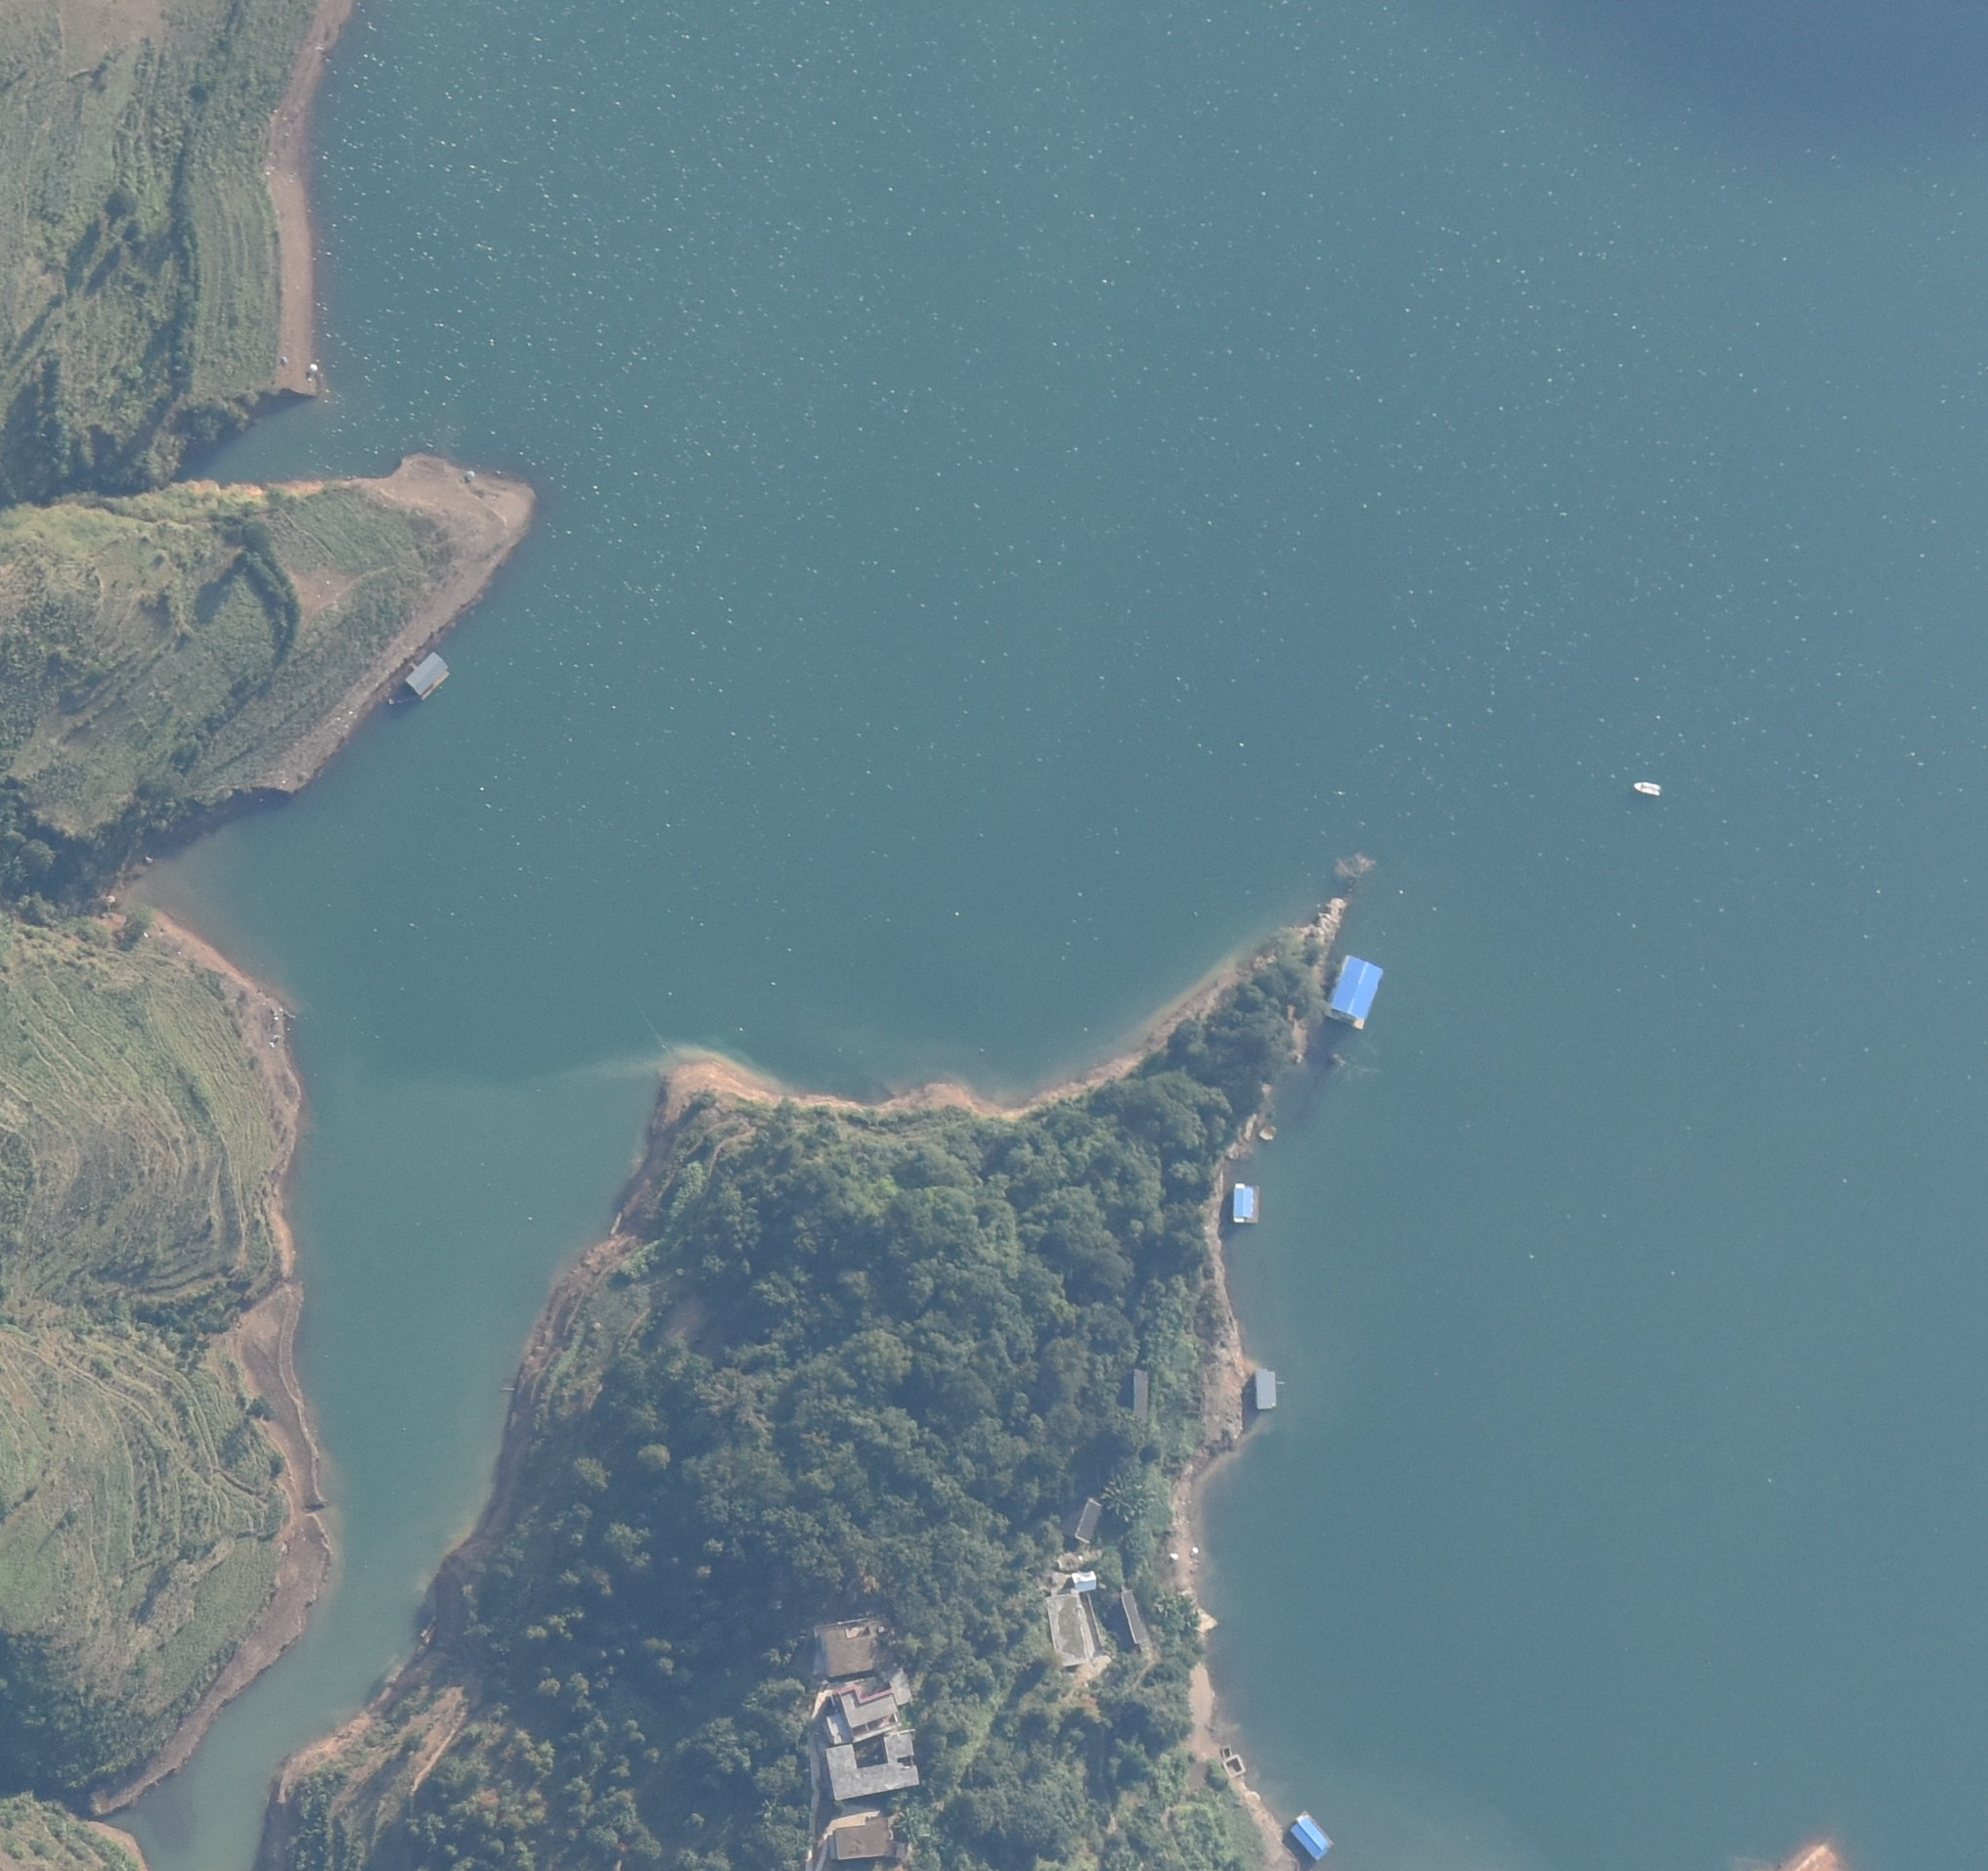building: (822, 1734, 914, 1796), (828, 1673, 908, 1743), (815, 1618, 889, 1676), (1042, 1593, 1095, 1667), (829, 1812, 894, 1860), (1105, 1592, 1148, 1645), (1063, 1492, 1099, 1541), (1123, 1368, 1151, 1425), (1068, 1571, 1097, 1590)
prefabricated-house: (1326, 956, 1382, 1028), (404, 655, 454, 699), (1288, 1814, 1331, 1858), (1230, 1184, 1259, 1226), (1253, 1366, 1278, 1410)
ship: (1633, 780, 1664, 797)
